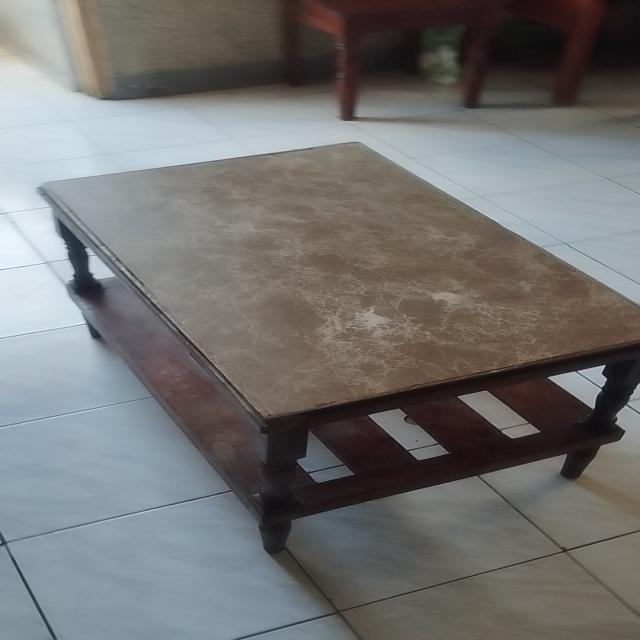table: (39, 136, 640, 551)
